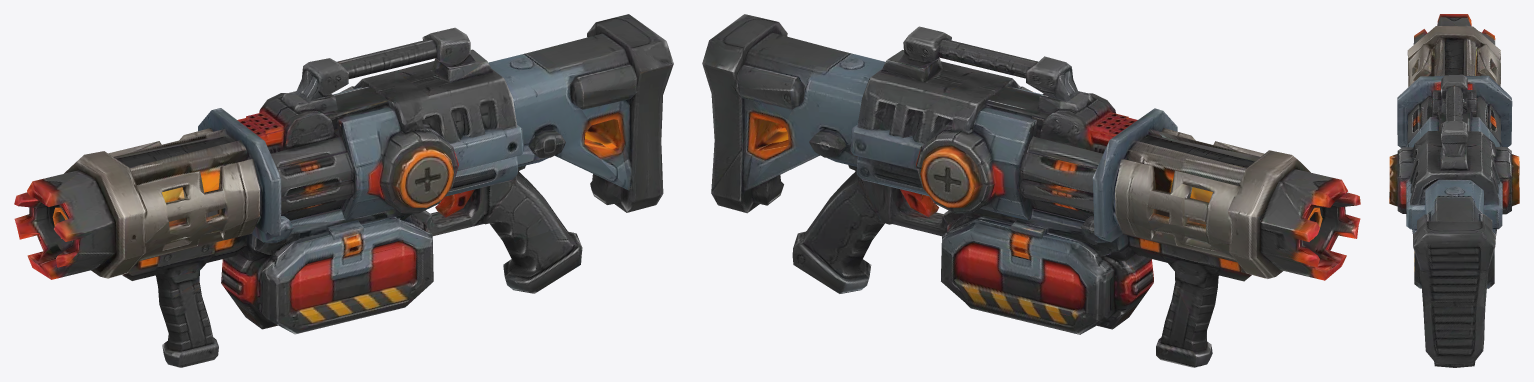
Rendered from flamethrower.glb.
3 renders of one model, left to right at view 1: azimuth 30°, elevation 25°; view 2: azimuth 150°, elevation 25°; view 3: azimuth 270°, elevation 25°, orthographic. The views are drawn at different scales.
Parts seen in each view (by area): view 1: mesh_node; view 2: mesh_node; view 3: mesh_node.
Boxes of the visible parts, x1,y1,x2,y2 form: mesh_node: [14, 14, 673, 367]; mesh_node: [702, 14, 1360, 367]; mesh_node: [1389, 14, 1519, 367].
Size of the model in its own units: 1 by 0.4268 by 0.2378.
1 material, 1 textured.
